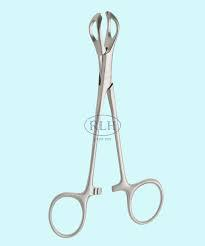Lane Tissue Forceps: (46, 8, 164, 238)
